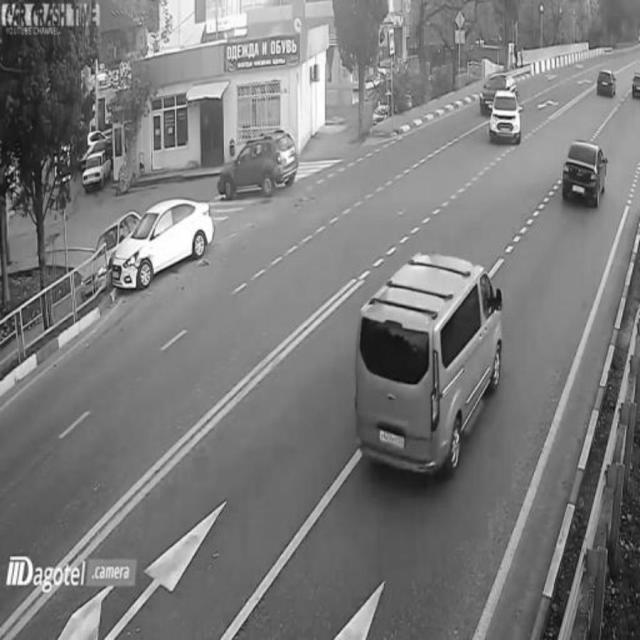accident: (80, 201, 214, 293)
vehicle: (355, 251, 501, 469), (212, 127, 305, 200), (558, 137, 606, 205), (487, 89, 525, 147), (478, 67, 516, 115), (82, 144, 110, 192), (592, 61, 619, 108), (628, 68, 640, 110)
